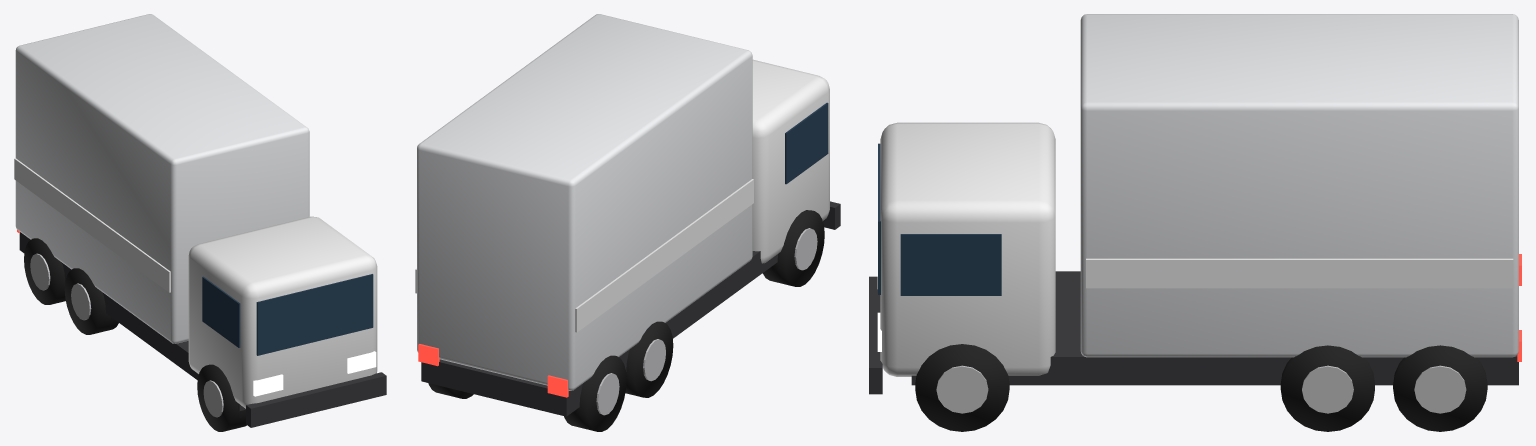
Rendered from truck.glb.
3 views of the same model, side by side, from view 1: azimuth 30°, elevation 25°; view 2: azimuth 150°, elevation 25°; view 3: azimuth 270°, elevation 25° (orthographic). The views are drawn at different scales.
Parts seen in each view (by area): view 1: Cargo, Cab, TruckWindshield, CargoStripe-1, TruckBumper, Chassis, CabWindow-1, TWheel-11, TWheel-10, TWheel-12, TWheel-12Hub, TWheel-10Hub (+3 smaller); view 2: Cargo, Cab, Chassis, CargoStripe-1, CabWindow-1, TWheel-12, TWheel-10, TWheel-11, TWheel-11Hub, TWheel-12Hub, TWheel-10Hub; view 3: Cargo, Cab, CargoStripe+1, Chassis, CabWindow+1, TWheel+10, TWheel+12, TWheel+11, TWheel+12Hub, TWheel+10Hub, TWheel+11Hub, TruckBumper.
Part boxes in pixels (x1,y1,x2,y2): Cargo: (15,14,309,343); Cab: (188,216,377,408); TruckWindshield: (256,274,373,355); CargoStripe-1: (14,158,170,292); TruckBumper: (246,372,386,427); Chassis: (19,232,245,410); CabWindow-1: (202,276,240,347); TWheel-11: (64,268,118,334); TWheel-10: (197,364,246,431); TWheel-12: (24,238,65,304); TWheel-12Hub: (30,253,50,290); TWheel-10Hub: (203,380,223,417); Cargo: (417,14,752,390); Cab: (752,59,829,263); Chassis: (421,251,777,416); CargoStripe-1: (575,179,753,332); CabWindow-1: (785,102,828,184); TWheel-12: (564,355,626,431); TWheel-10: (762,210,824,286); TWheel-11: (625,321,673,397); TWheel-11Hub: (643,339,665,381); TWheel-12Hub: (596,373,619,415); TWheel-10Hub: (794,228,817,270); Cargo: (1080,14,1518,357); Cab: (880,122,1055,376); CargoStripe+1: (1086,258,1513,288); Chassis: (911,271,1518,385); CabWindow+1: (900,234,1001,295); TWheel+10: (915,344,1009,431); TWheel+12: (1393,345,1487,431); TWheel+11: (1280,345,1374,431); TWheel+12Hub: (1414,365,1466,413); TWheel+10Hub: (936,365,988,413); TWheel+11Hub: (1302,365,1353,413); TruckBumper: (869,276,882,394).
Size of the model in its own units: 2.04 by 3.2 by 5.8.
